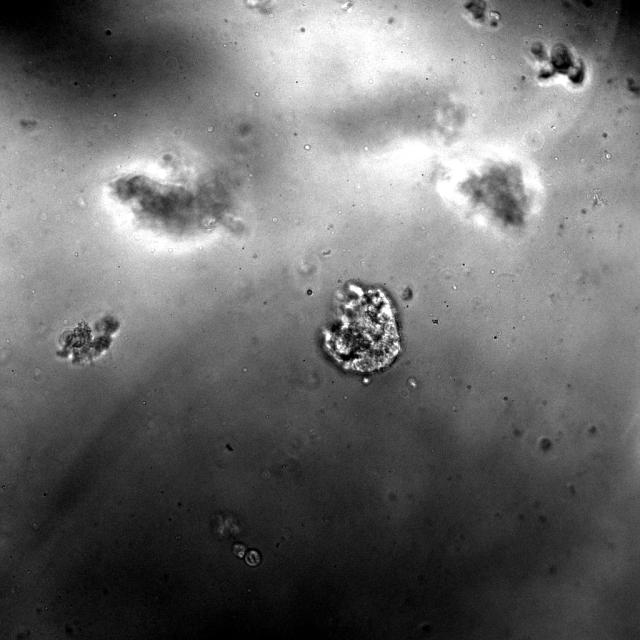organoid: (111, 154, 241, 236), (319, 280, 402, 376), (458, 161, 532, 225), (58, 314, 119, 364), (531, 41, 585, 85), (464, 0, 499, 28), (233, 542, 261, 567)
